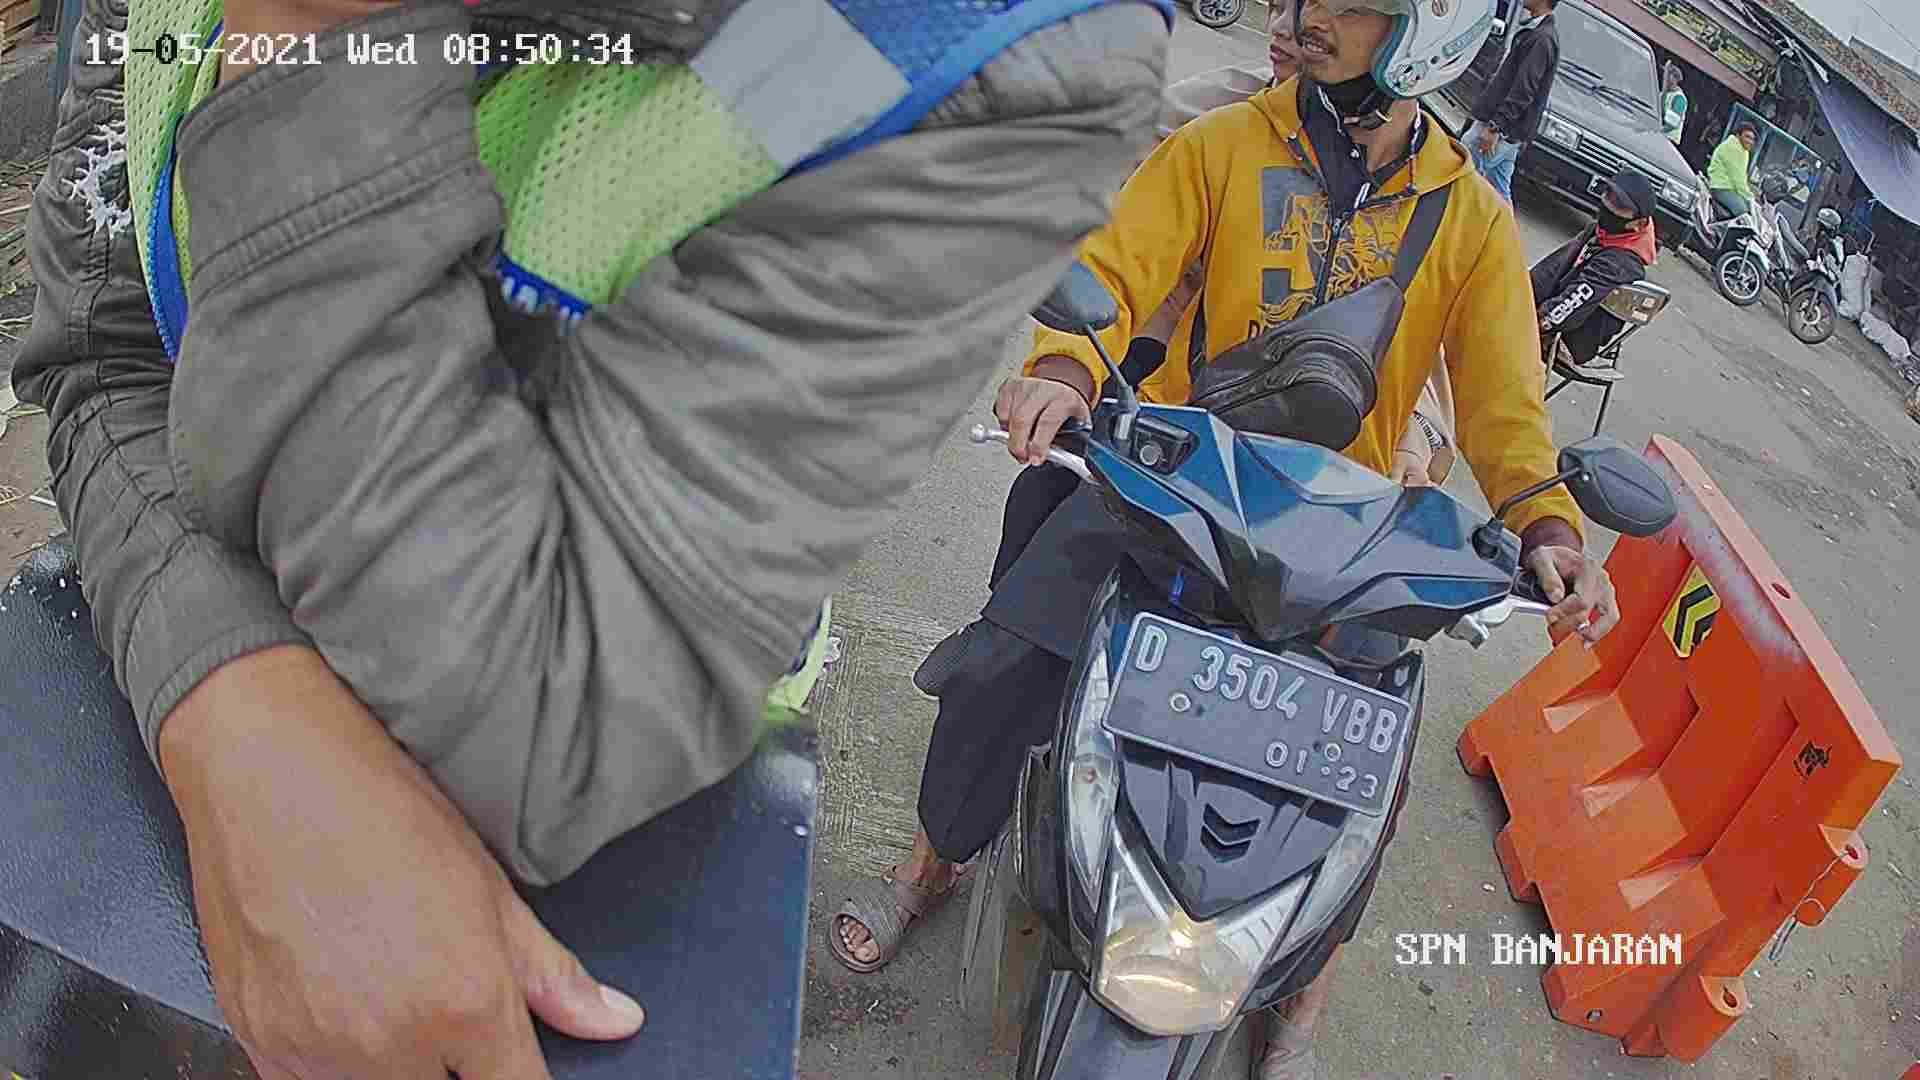motor: (963, 410, 1487, 1080)
